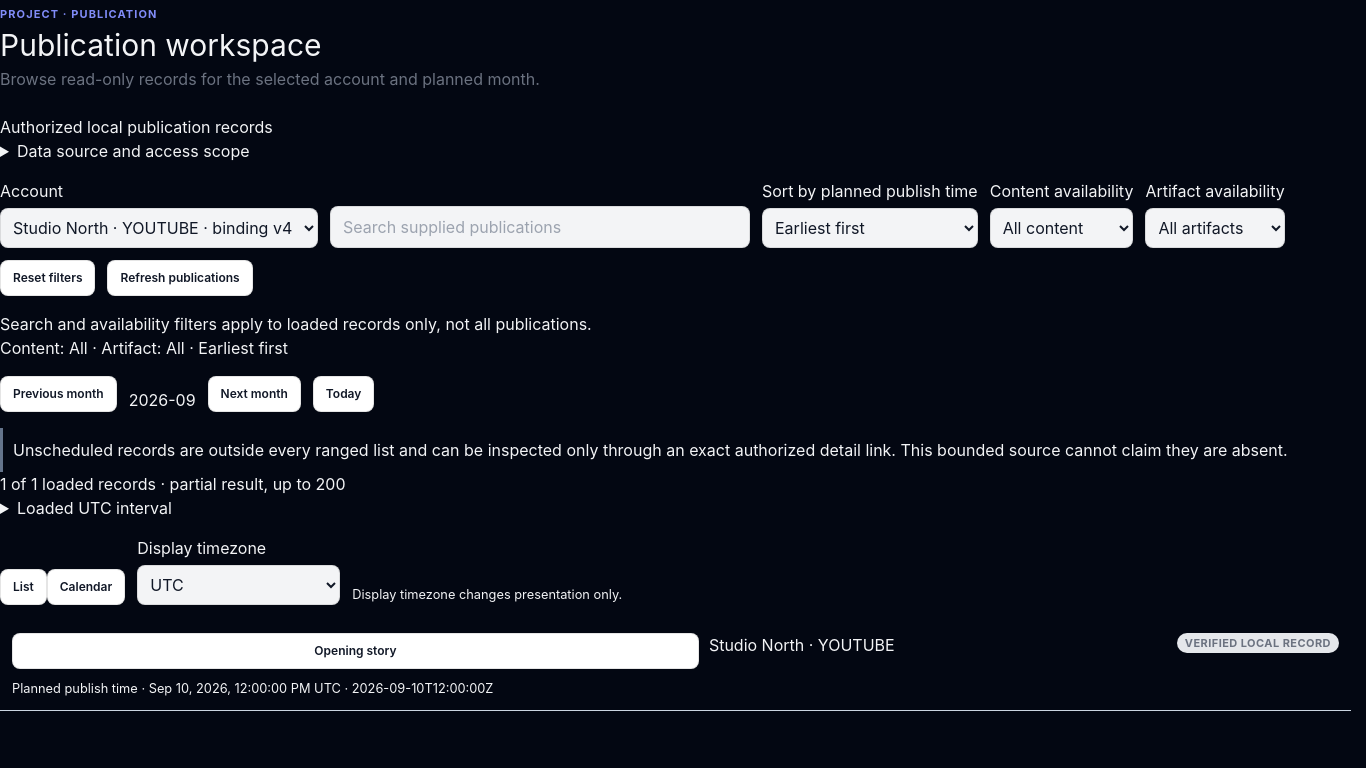
authorized Publication workspace › retires snapshot, detail and Selection when the same account ID has a new binding revision
Click the button "Opening story": (355, 650) [12,632,699,668]
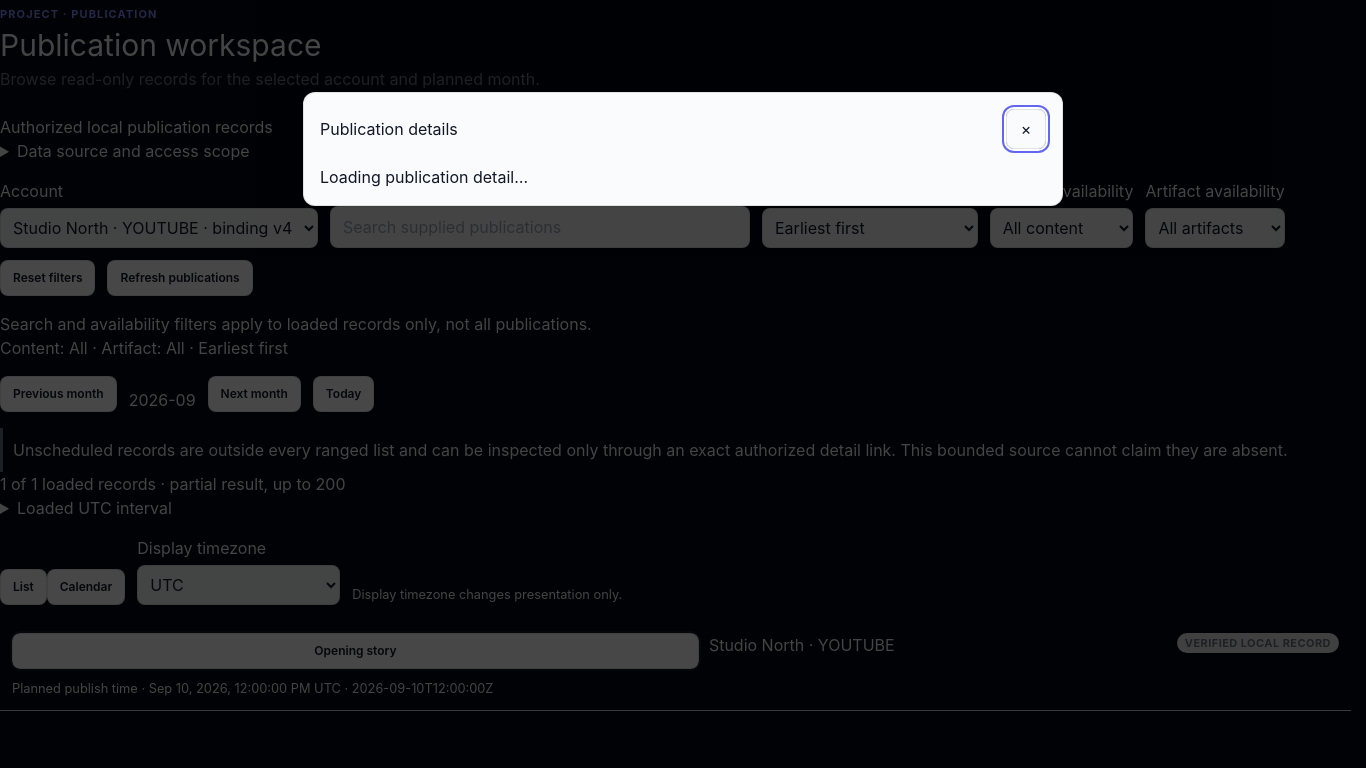
Click the button named "Close publication details": (1026, 129) [1006,109,1046,149]
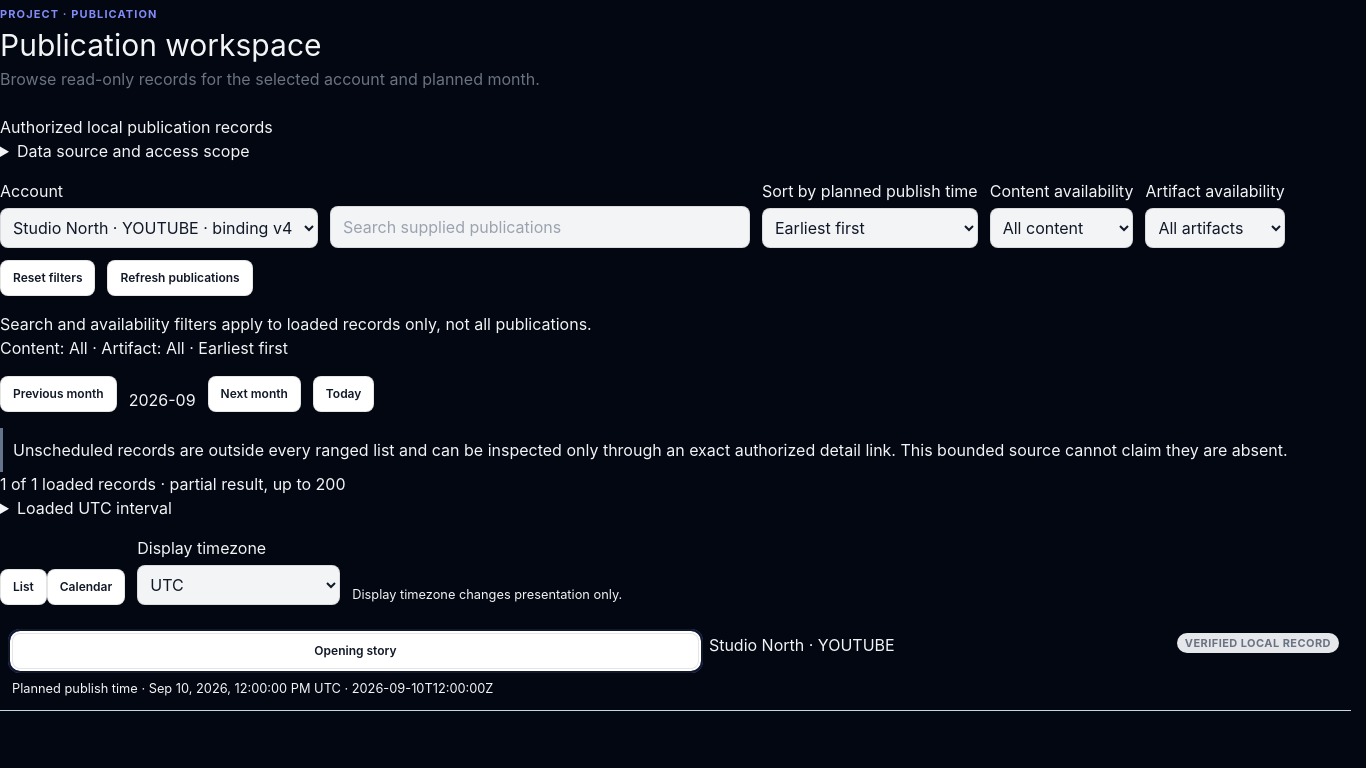
Click the button "Refresh publications": (180, 278) [108,260,253,296]
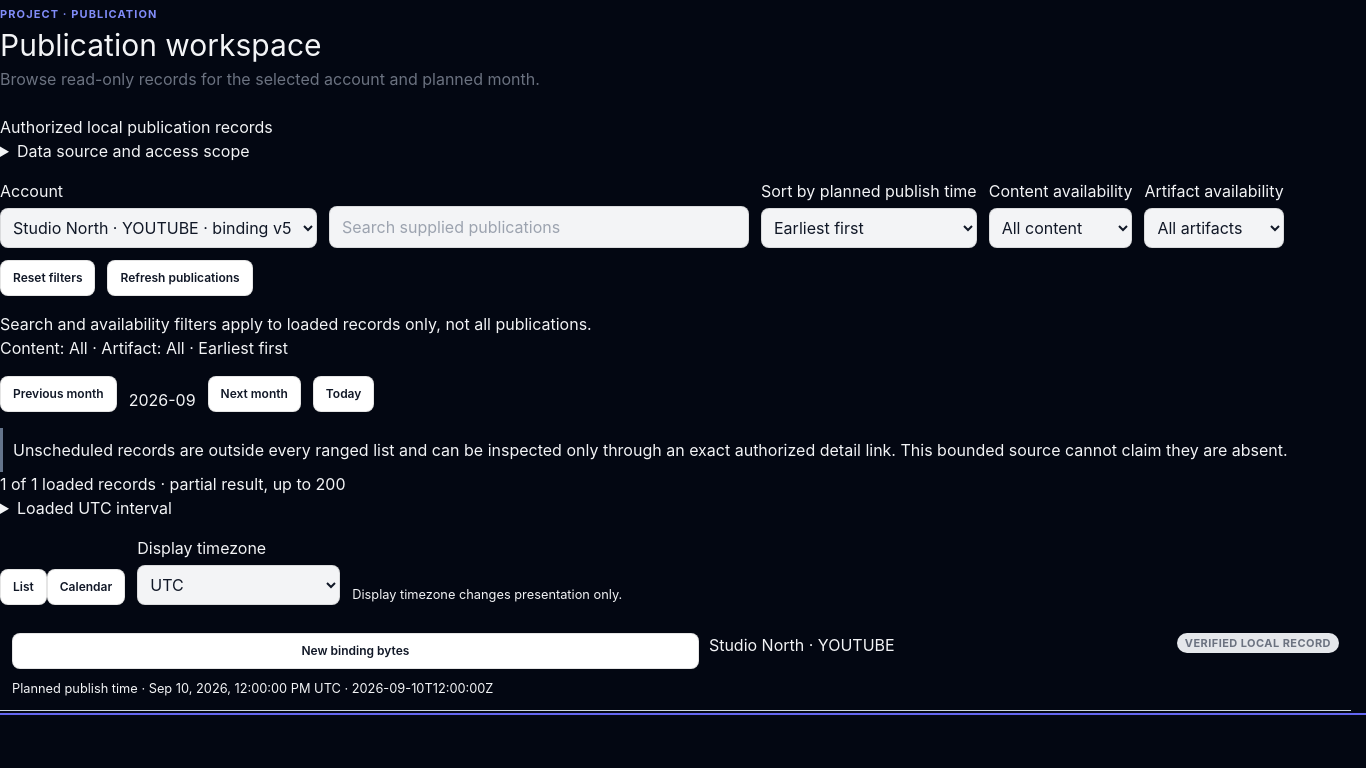
Expected: the button "New binding bytes" is shown, [12,632,699,668]
Expected: the button "Opening story" is gone
